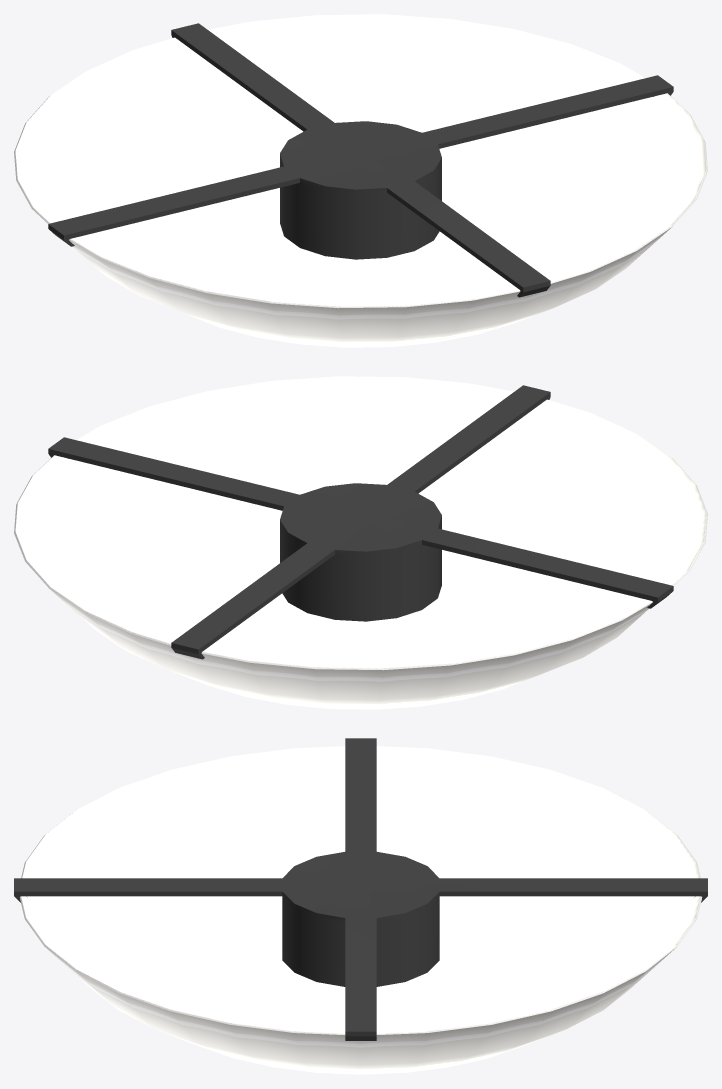
The picture shows the model from 3 angles, top to bottom: view 1: azimuth 30°, elevation 25°; view 2: azimuth 150°, elevation 25°; view 3: azimuth 270°, elevation 25°; orthographic projection.
Visible parts, largest first — view 1: Lamp_01; view 2: Lamp_01; view 3: Lamp_01.
Part boxes in pixels (left/top/right/bottom): Lamp_01: left=14, top=14, right=707, bottom=347; Lamp_01: left=14, top=376, right=707, bottom=709; Lamp_01: left=14, top=738, right=707, bottom=1074.
Bounding box in the file's own units: 169 × 40.47 × 169.
Materials: 3 (3 with a texture image).
